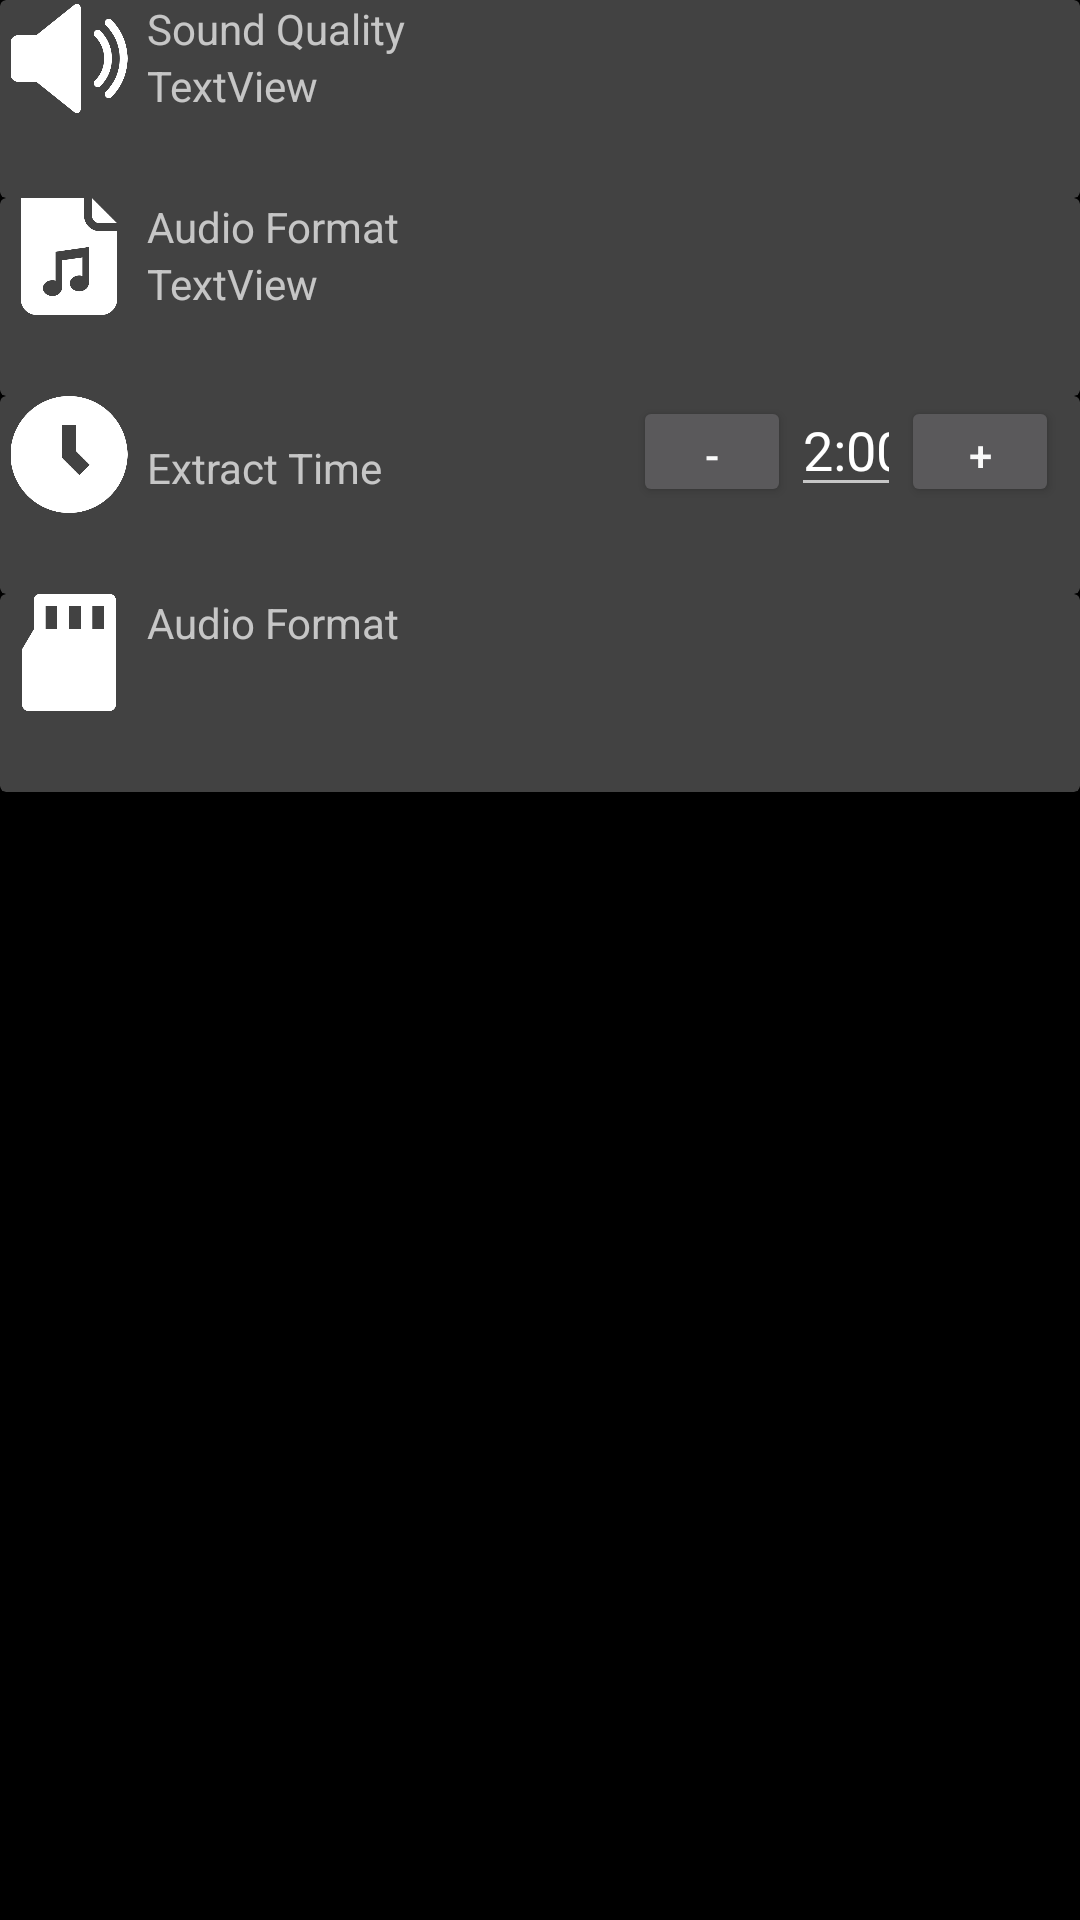

Named icons in this screenshot (1080px×1920px) and their bounding boxes, (x1, y1, x2, y2):
Sotrage Path: (0, 594, 116, 711)
